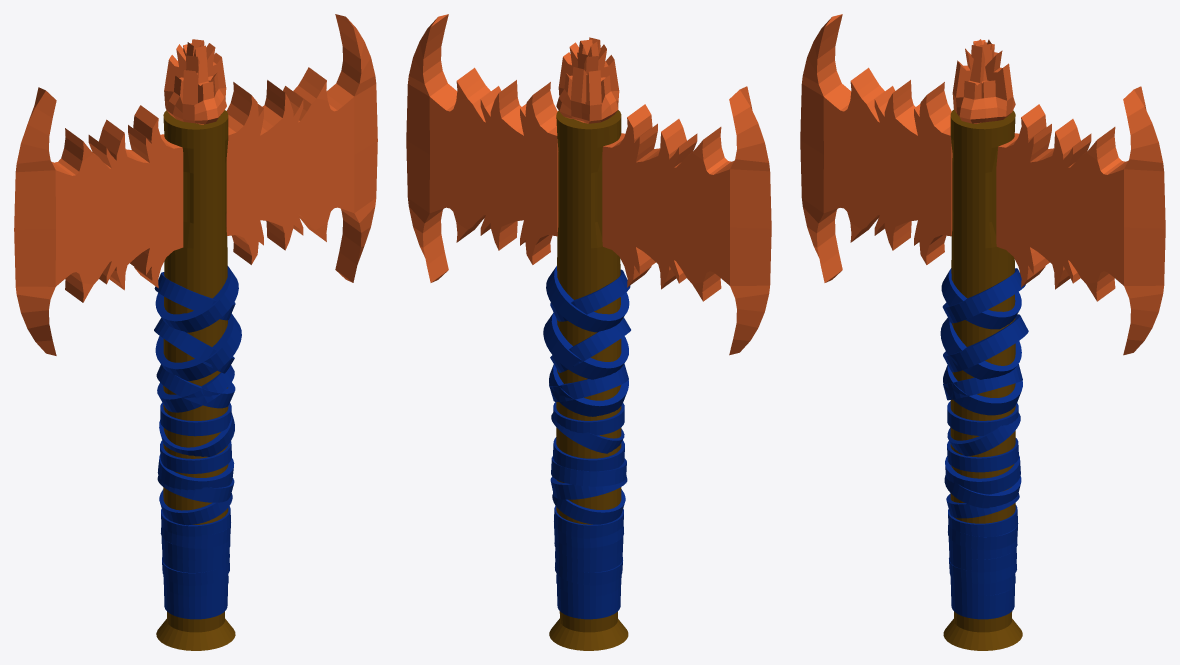
The model's file is Fuego.fbx.
3 views of the same model, side by side, from view 1: azimuth 30°, elevation 25°; view 2: azimuth 150°, elevation 25°; view 3: azimuth 330°, elevation 25° (orthographic).
Visible parts, largest first — view 1: HachaFiloD, HachaFiloI, Tubo, Fuego, Cylinder.018, Cylinder.020, Cylinder.003, Cylinder.017, Cylinder.019, Cylinder.015, Cylinder.002, Cylinder.014 (+12 smaller); view 2: HachaFiloD, HachaFiloI, Tubo, Fuego, Cylinder.018, Cylinder.020, Cylinder.003, Cylinder.014, Cylinder.017, Cylinder.019, Cylinder.021, Cylinder.015 (+12 smaller); view 3: HachaFiloI, HachaFiloD, Tubo, Fuego, Cylinder.018, Cylinder.020, Cylinder.017, Cylinder.019, Cylinder.021, Cylinder.014, Cylinder.015, Cylinder.016 (+12 smaller).
Part boxes in pixels (x1=…): HachaFiloD: x1=14, y1=87, x2=183, y2=355; HachaFiloI: x1=226, y1=14, x2=377, y2=282; Tubo: x1=156, y1=110, x2=235, y2=650; Fuego: x1=164, y1=39, x2=226, y2=124; Cylinder.018: x1=155, y1=313, x2=241, y2=380; Cylinder.020: x1=155, y1=266, x2=238, y2=332; Cylinder.003: x1=157, y1=365, x2=234, y2=412; Cylinder.017: x1=156, y1=364, x2=235, y2=408; Cylinder.019: x1=154, y1=318, x2=234, y2=373; Cylinder.015: x1=160, y1=440, x2=231, y2=473; Cylinder.002: x1=160, y1=402, x2=231, y2=436; Cylinder.014: x1=157, y1=454, x2=234, y2=490; HachaFiloD: x1=602, y1=86, x2=771, y2=355; HachaFiloI: x1=406, y1=14, x2=558, y2=282; Tubo: x1=549, y1=110, x2=628, y2=650; Fuego: x1=556, y1=37, x2=619, y2=123; Cylinder.018: x1=543, y1=313, x2=628, y2=379; Cylinder.020: x1=546, y1=266, x2=629, y2=332; Cylinder.003: x1=549, y1=364, x2=628, y2=416; Cylinder.014: x1=551, y1=456, x2=626, y2=486; Cylinder.017: x1=549, y1=363, x2=628, y2=401; Cylinder.019: x1=550, y1=317, x2=630, y2=372; Cylinder.021: x1=550, y1=269, x2=630, y2=321; Cylinder.015: x1=553, y1=437, x2=624, y2=471; HachaFiloI: x1=996, y1=86, x2=1165, y2=355; HachaFiloD: x1=800, y1=14, x2=952, y2=282; Tubo: x1=943, y1=109, x2=1022, y2=650; Fuego: x1=952, y1=39, x2=1015, y2=123; Cylinder.018: x1=943, y1=314, x2=1028, y2=372; Cylinder.020: x1=942, y1=268, x2=1025, y2=323; Cylinder.017: x1=943, y1=365, x2=1022, y2=415; Cylinder.019: x1=940, y1=318, x2=1021, y2=379; Cylinder.021: x1=941, y1=268, x2=1021, y2=329; Cylinder.014: x1=945, y1=455, x2=1020, y2=494; Cylinder.015: x1=947, y1=438, x2=1018, y2=472; Cylinder.016: x1=947, y1=413, x2=1020, y2=456.
Bounding box in the file's own units: 762 × 1181 × 159.
